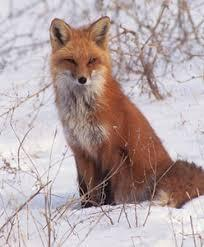fox: (5, 0, 204, 247)
